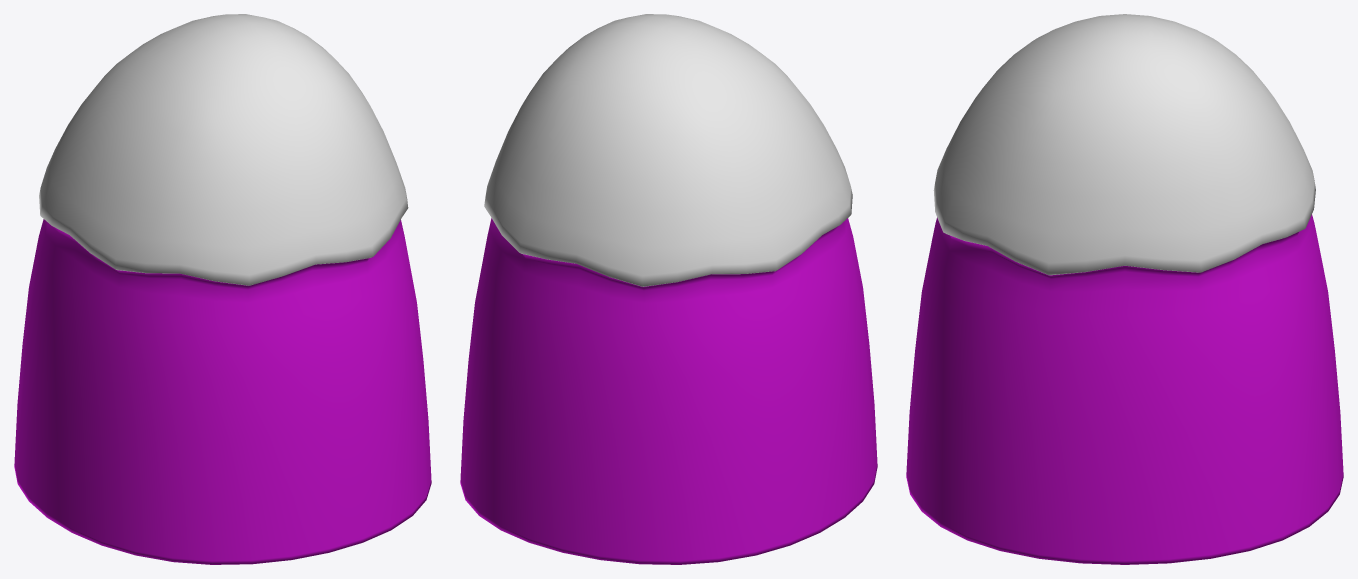
Rendered from Mountain1.fbx.
3 views of the same model, side by side, from view 1: azimuth 30°, elevation 25°; view 2: azimuth 150°, elevation 25°; view 3: azimuth 270°, elevation 25° (orthographic). The views are drawn at different scales.
Visible parts, largest first — view 1: Cube.040; view 2: Cube.040; view 3: Cube.040.
Part boxes in pixels (x1,y1,x2,y2): Cube.040: (14, 14, 431, 564); Cube.040: (460, 14, 877, 564); Cube.040: (906, 14, 1343, 564).
Bounding box in the file's own units: 6.74 × 7.07 × 8.15.
